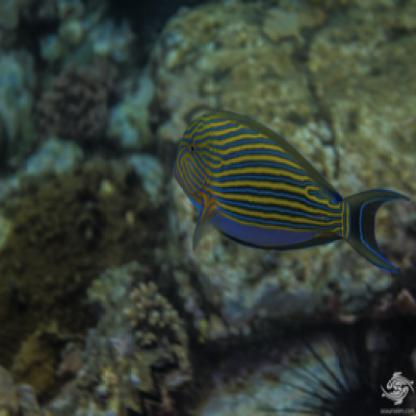surgeon: (166, 99, 413, 280)
